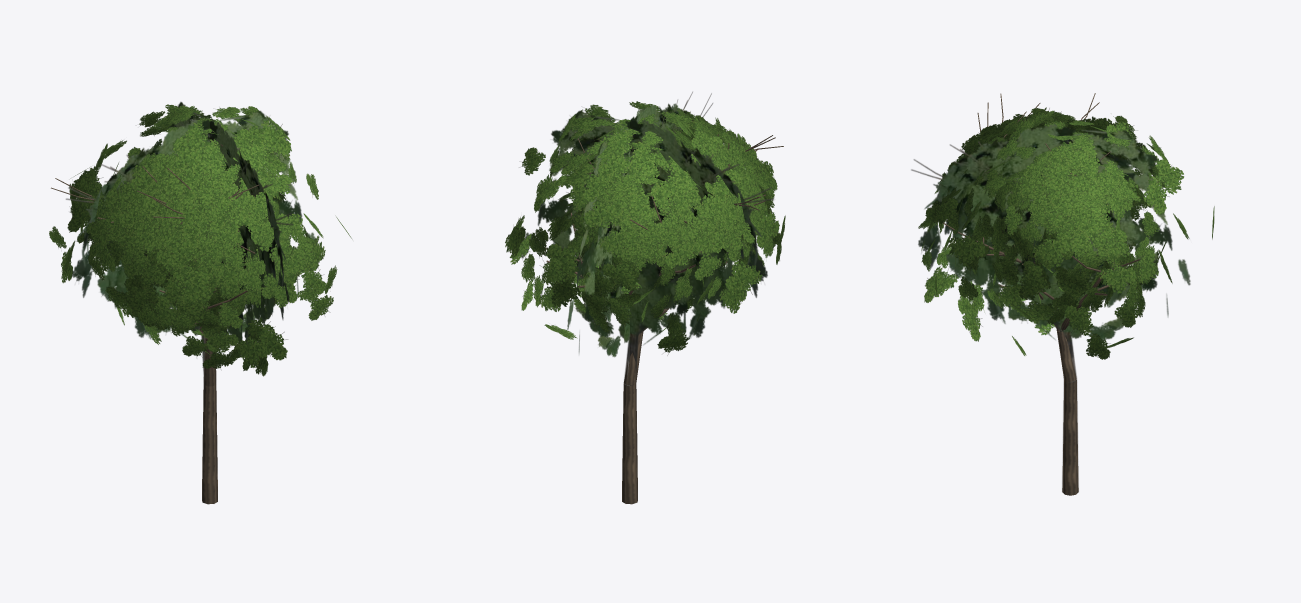
File: tree.glb
The picture shows the model from 3 angles, left to right: view 1: azimuth 30°, elevation 25°; view 2: azimuth 150°, elevation 25°; view 3: azimuth 270°, elevation 25°; orthographic projection. The views are drawn at different scales.
Visible parts, largest first — view 1: tree_lod0, tree_bb; view 2: tree_lod0, tree_bb; view 3: tree_lod0, tree_bb.
Part boxes in pixels (x1,y1,x2,y2): tree_lod0: (49, 104, 352, 504); tree_bb: (66, 102, 314, 501); tree_lod0: (505, 101, 785, 504); tree_bb: (521, 91, 773, 501); tree_lod0: (918, 93, 1214, 495); tree_bb: (911, 124, 1190, 487).
Size of what is drawn, in the model's own units: 15 by 15 by 15.
3 materials, 3 textured.
